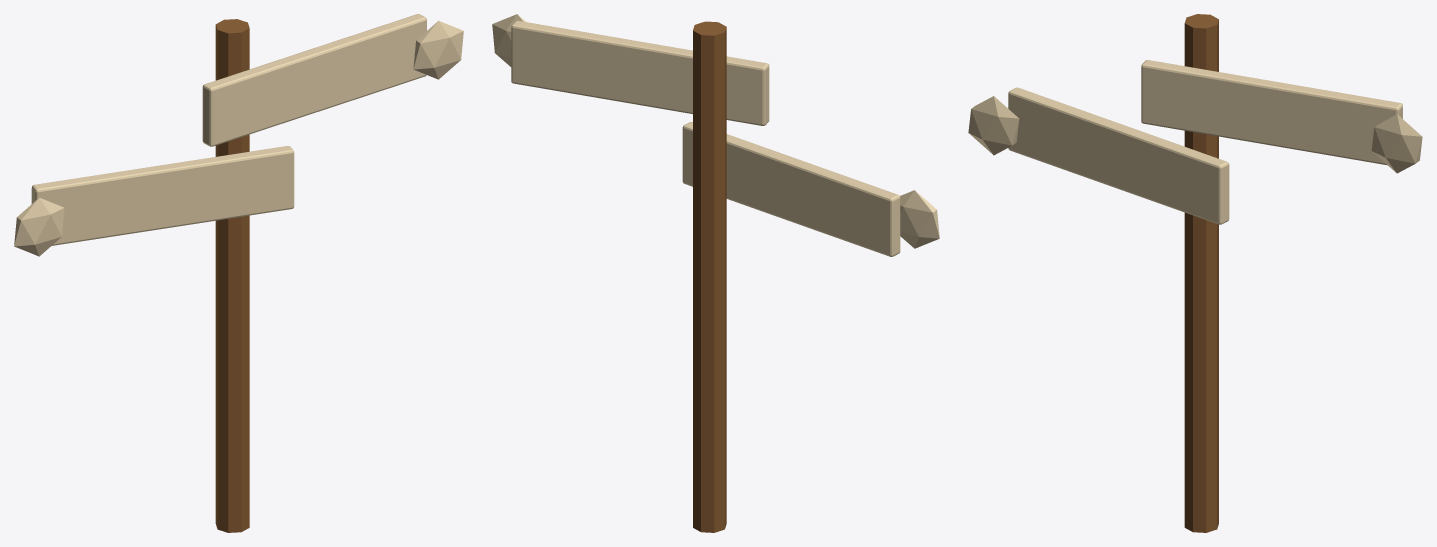
The model's file is schild_holz.glb.
3 renders of one model, left to right at view 1: azimuth 30°, elevation 25°; view 2: azimuth 150°, elevation 25°; view 3: azimuth 330°, elevation 25°, orthographic.
Visible parts, largest first — view 1: brett.001, brett, pfahl, spitze, spitze.001; view 2: pfahl, brett, brett.001, spitze.001, spitze; view 3: brett, brett.001, pfahl, spitze.001, spitze.
Part boxes in pixels (left/top/right/bottom): brett.001: left=31, top=146, right=294, bottom=245; brett: left=202, top=14, right=426, bottom=146; pfahl: left=215, top=19, right=249, bottom=532; spitze: left=413, top=20, right=463, bottom=79; spitze.001: left=14, top=197, right=64, bottom=256; pfahl: left=693, top=21, right=726, bottom=532; brett: left=511, top=20, right=769, bottom=125; brett.001: left=682, top=122, right=900, bottom=256; spitze.001: left=900, top=190, right=939, bottom=248; spitze: left=492, top=14, right=525, bottom=66; brett: left=1141, top=60, right=1402, bottom=165; brett.001: left=1008, top=87, right=1229, bottom=224; pfahl: left=1184, top=14, right=1218, bottom=532; spitze.001: left=968, top=96, right=1019, bottom=155; spitze: left=1371, top=114, right=1422, bottom=173.
Size of the model in its own units: 2.07 by 2.2 by 0.2466.
